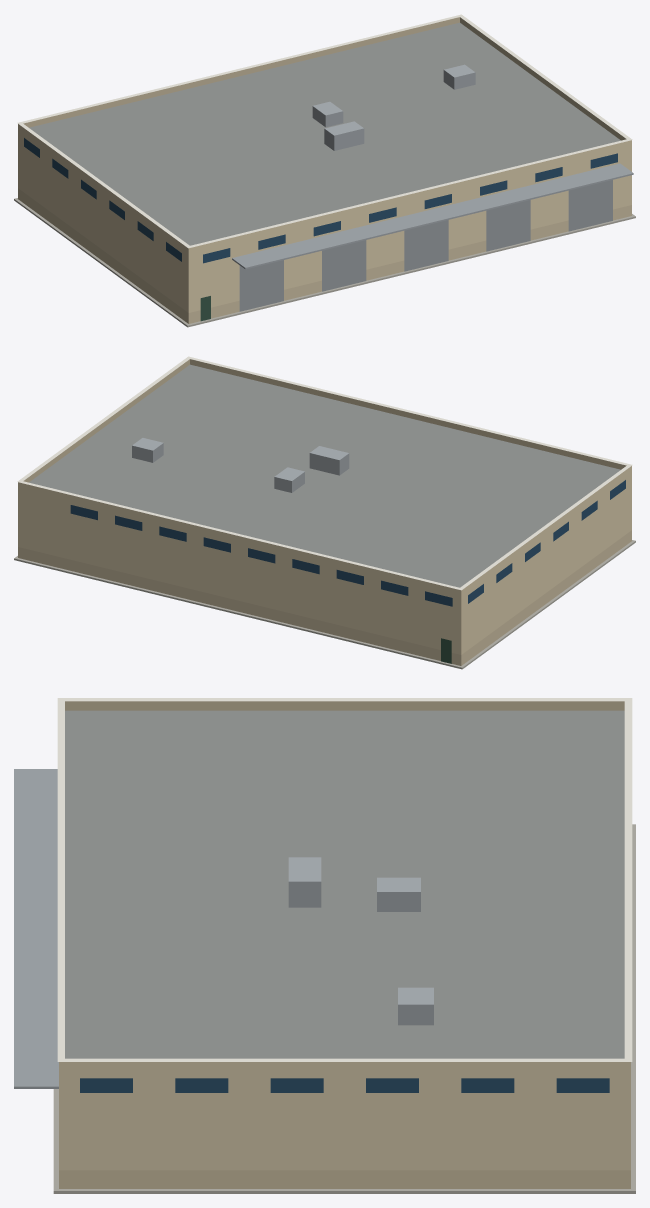
File: hall_42x28_lod1.glb
3 renders of one model, top to bottom at view 1: azimuth 30°, elevation 25°; view 2: azimuth 150°, elevation 25°; view 3: azimuth 270°, elevation 25°, orthographic. The views are drawn at different scales.
Parts seen in each view (by area): view 1: block; view 2: block; view 3: block.
Boxes of the visible parts, x1,y1,x2,y2 form: block: (14, 14, 635, 327); block: (14, 356, 635, 669); block: (14, 698, 635, 1193).
Size of the model in its own units: 42.5 by 7.94 by 30.45.
